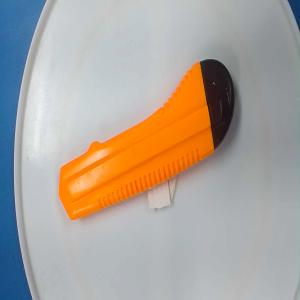estilete: (59, 58, 235, 221)
